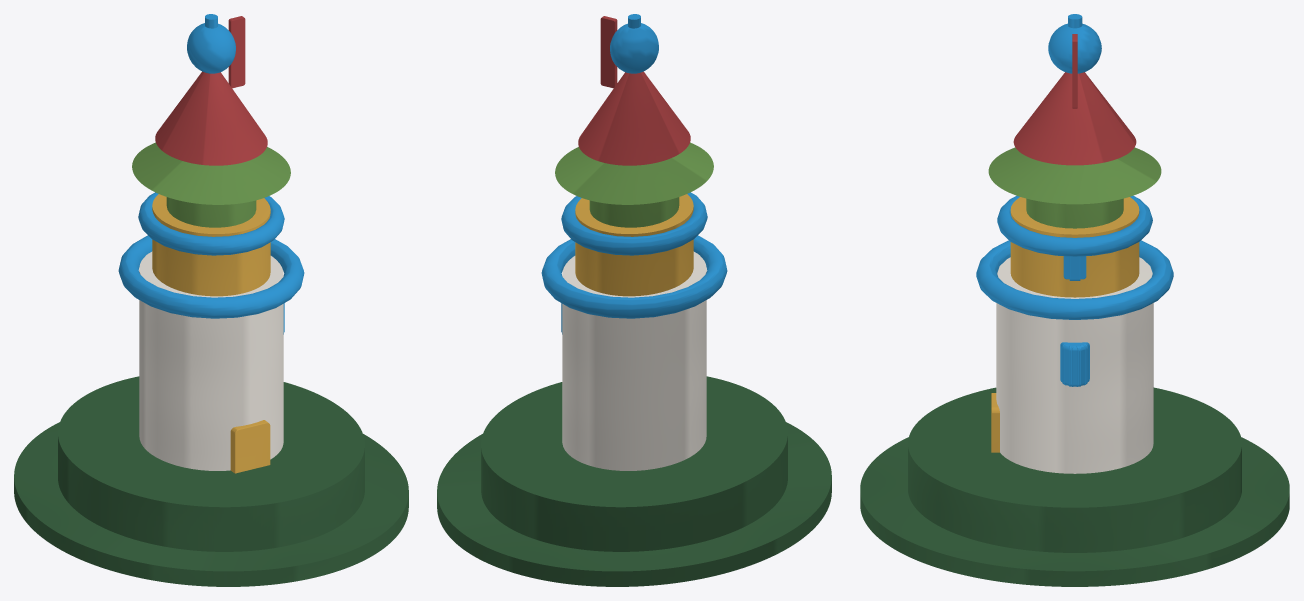
Rendered from 0927_秦汉图鉴_市楼.glb.
3 views of the same model, side by side, from view 1: azimuth 30°, elevation 25°; view 2: azimuth 150°, elevation 25°; view 3: azimuth 270°, elevation 25° (orthographic).
Parts seen in each view (by area): view 1: card_0927; view 2: card_0927; view 3: card_0927.
Boxes of the visible parts, left/top/right/bottom form: card_0927: left=14, top=14, right=408, bottom=586; card_0927: left=437, top=14, right=831, bottom=586; card_0927: left=860, top=14, right=1289, bottom=586.
Size of the model in its own units: 0.722 by 1 by 0.7978.
